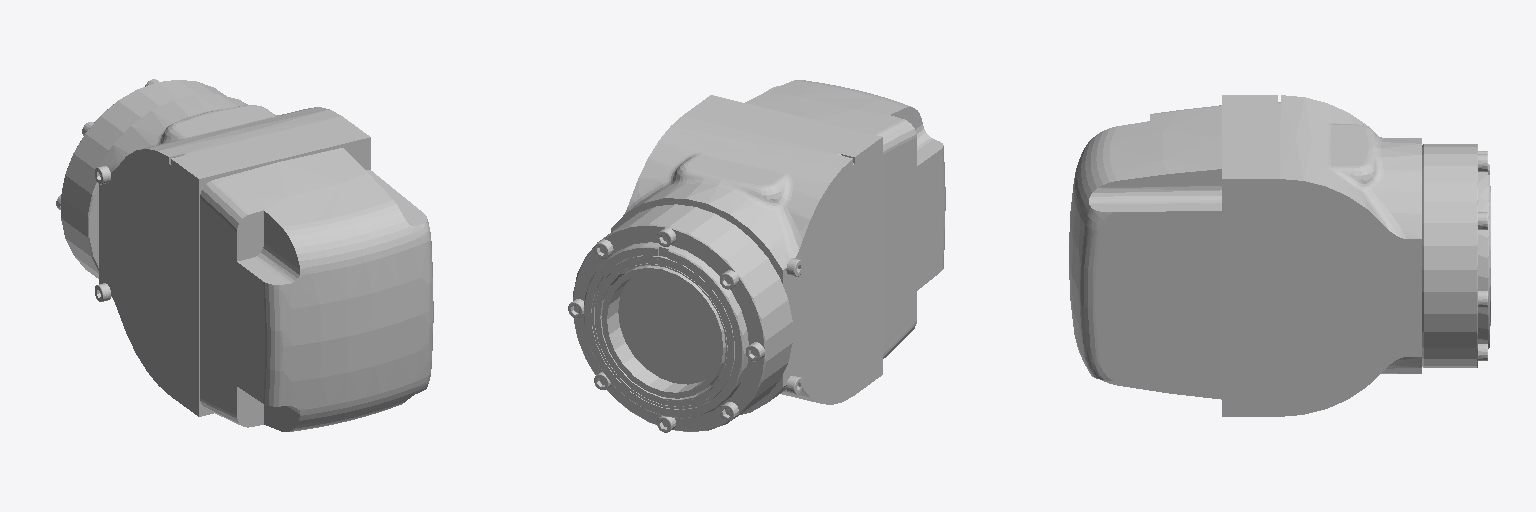
3 renders of one model, left to right at view 1: azimuth 30°, elevation 25°; view 2: azimuth 150°, elevation 25°; view 3: azimuth 270°, elevation 25°, orthographic.
Visible parts, largest first — view 1: Link5; view 2: Link5; view 3: Link5.
Boxes of the visible parts, x1=… form: Link5: x1=56, y1=79, x2=433, y2=431; Link5: x1=568, y1=80, x2=945, y2=432; Link5: x1=1069, y1=95, x2=1490, y2=416.
Bounding box in the file's own units: 20.89 × 24.6 × 39.57.